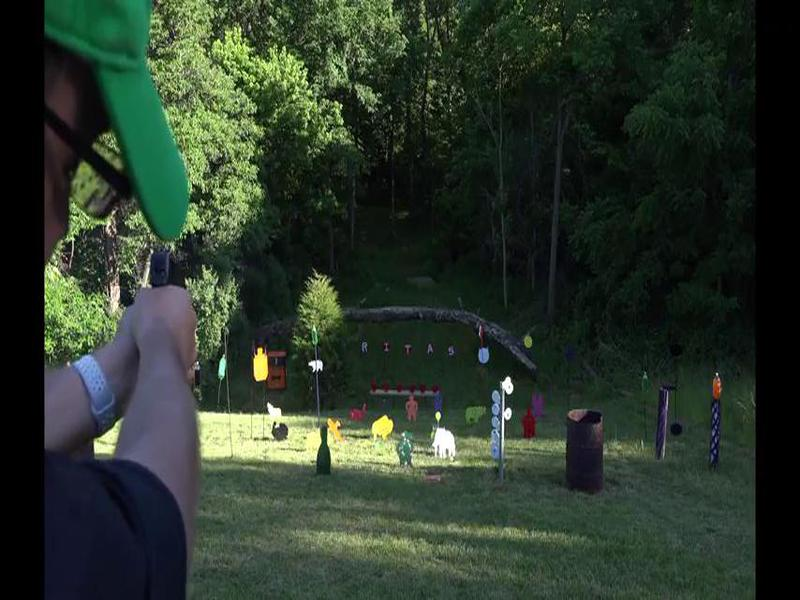Pistola: (128, 233, 207, 334)
